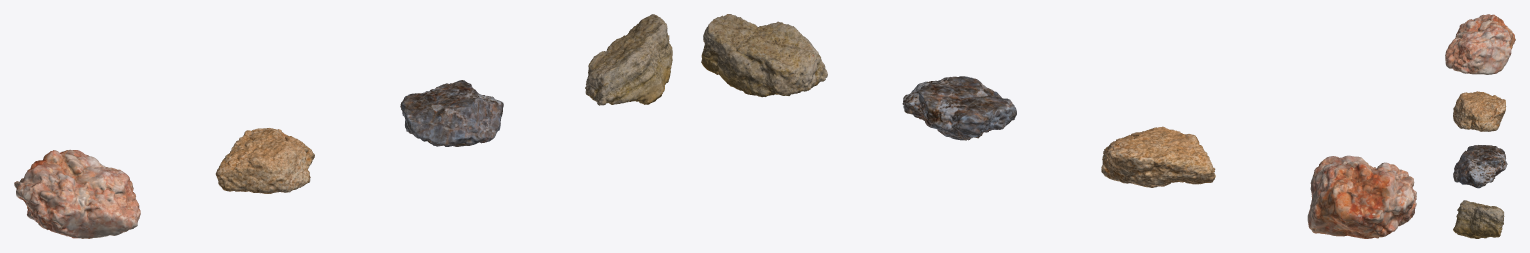
File: namaqualand_rocks_01.glb
3 views of the same model, side by side, from view 1: azimuth 30°, elevation 25°; view 2: azimuth 150°, elevation 25°; view 3: azimuth 270°, elevation 25° (orthographic). The views are drawn at different scales.
Visible parts, largest first — view 1: namaqualand_rocks_02_a, namaqualand_rocks_02_d, namaqualand_rocks_02_c, namaqualand_rocks_02_b; view 2: namaqualand_rocks_02_d, namaqualand_rocks_02_a, namaqualand_rocks_02_b, namaqualand_rocks_02_c; view 3: namaqualand_rocks_02_a, namaqualand_rocks_02_b, namaqualand_rocks_02_c, namaqualand_rocks_02_d.
Boxes of the visible parts, box(x1,y1,x2,y2) form: namaqualand_rocks_02_a: box(14, 149, 140, 238); namaqualand_rocks_02_d: box(585, 14, 672, 105); namaqualand_rocks_02_c: box(400, 80, 503, 146); namaqualand_rocks_02_b: box(215, 128, 314, 193); namaqualand_rocks_02_d: box(701, 14, 827, 97); namaqualand_rocks_02_a: box(1307, 155, 1416, 238); namaqualand_rocks_02_b: box(1101, 126, 1215, 187); namaqualand_rocks_02_c: box(902, 76, 1016, 140); namaqualand_rocks_02_a: box(1445, 14, 1515, 74); namaqualand_rocks_02_b: box(1453, 91, 1506, 131); namaqualand_rocks_02_c: box(1453, 145, 1507, 188); namaqualand_rocks_02_d: box(1453, 200, 1504, 238).
Bounding box in the file's own units: 1.45 × 0.1525 × 0.217.
1 material, 1 textured.
